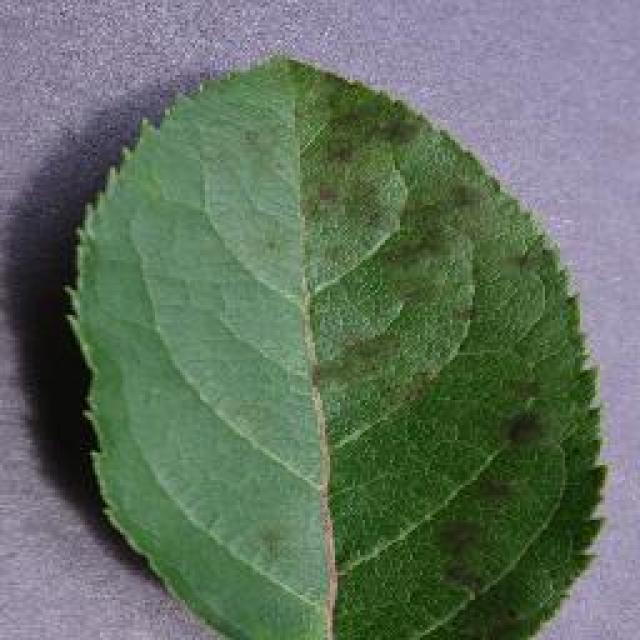apple scab disease: (62, 52, 610, 638)
